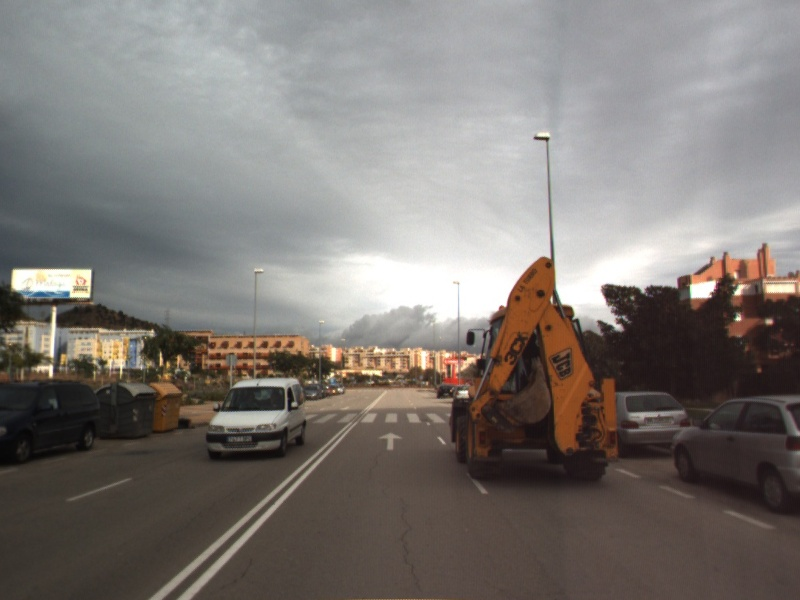STRAIGHT: (376, 430, 405, 452)
